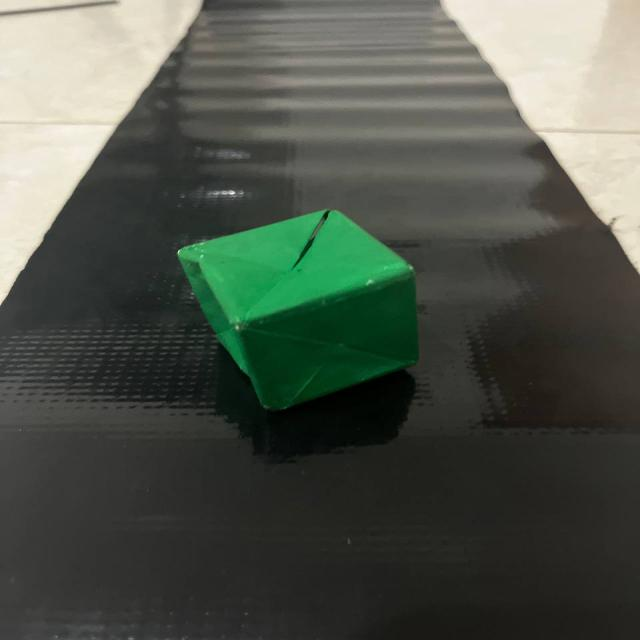Verde: (158, 196, 457, 428)
